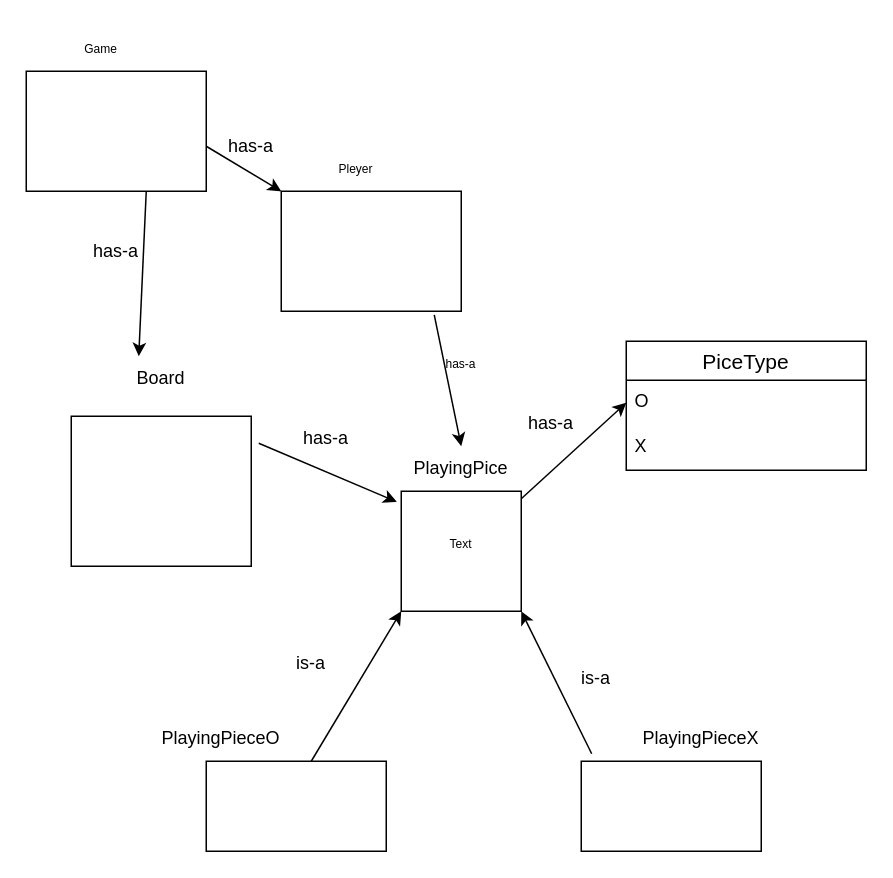
Some shapes in this 893 by 878 pixel diagram are drawn without their labels. Each missing label, with the box of its shape:
int size PlayingPice [size][size]: (70, 415, 251, 566)
player []; Board obj: (25, 70, 206, 191)
